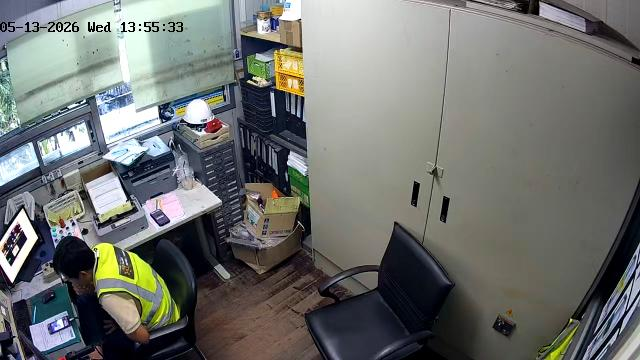Head: (53, 236, 94, 285)
People: (53, 237, 179, 359)
Phone: (48, 316, 70, 333), (150, 210, 169, 226)
